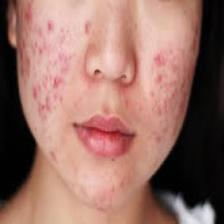Sensitif: (19, 0, 199, 195)
